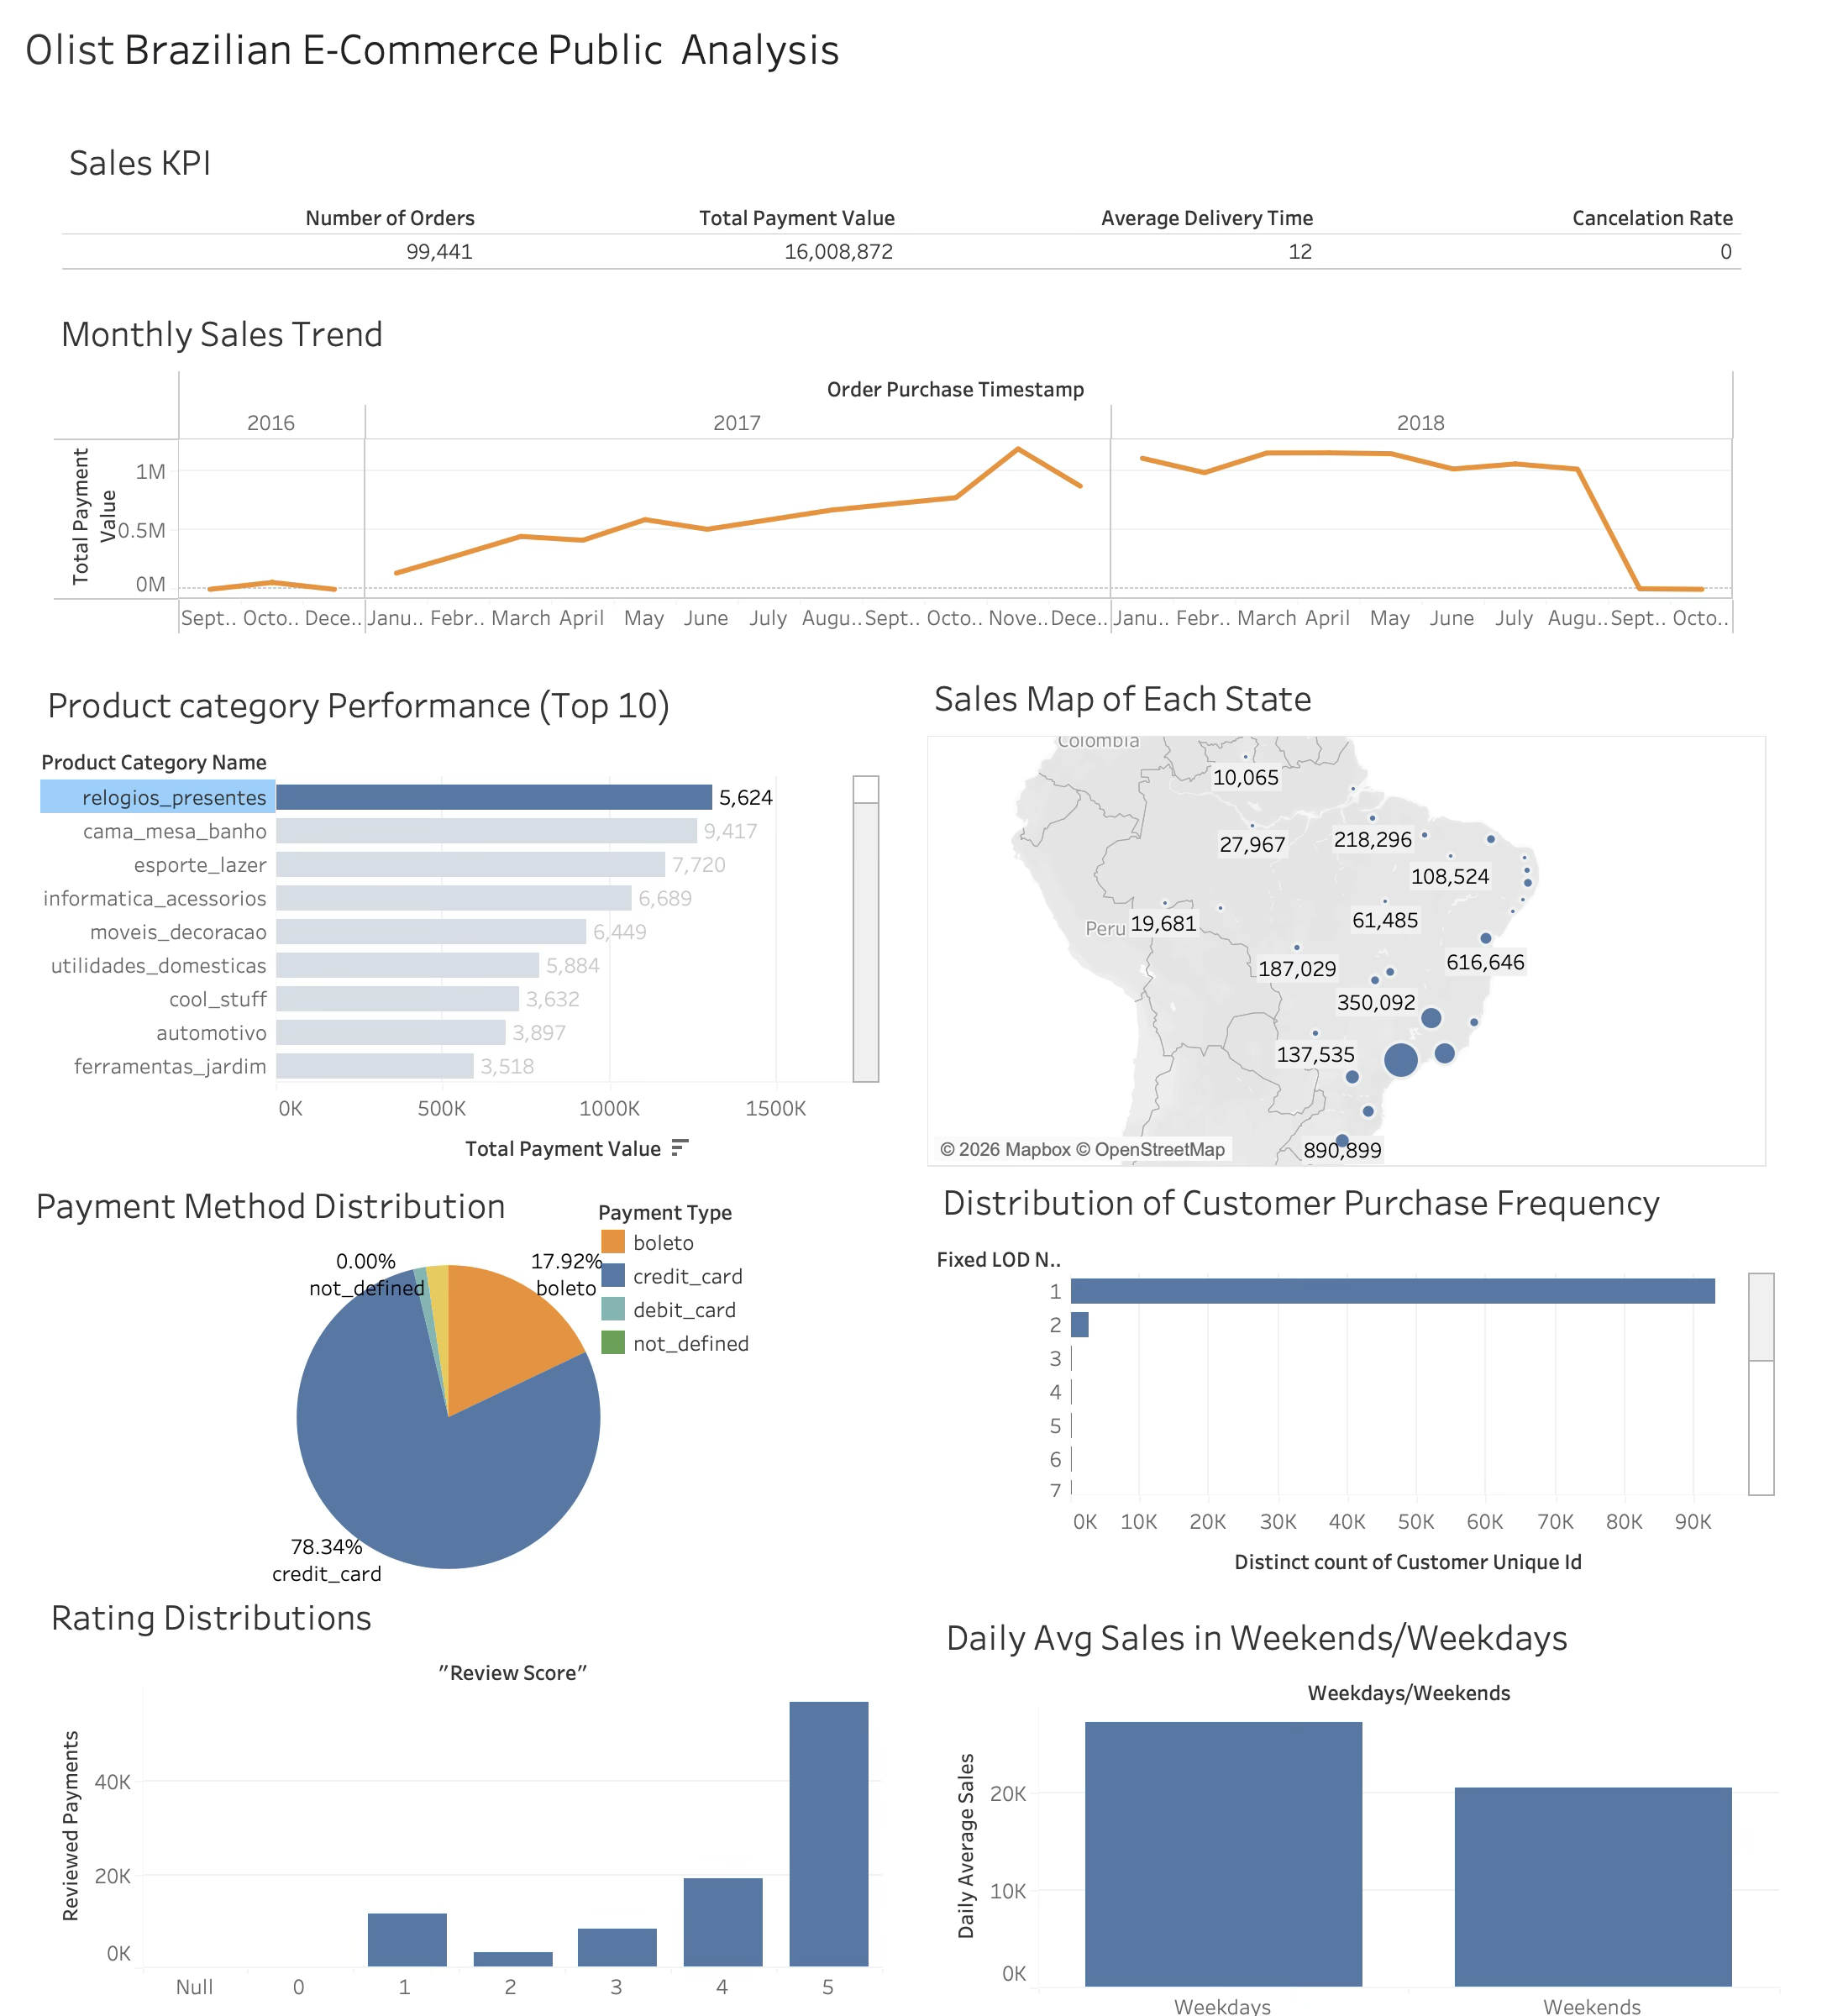

Layout of this report page (visuals, bound fields, positions):
{"tool":"tableau","page":{"name":"Dashboard 1","canvas":[1100,1200],"ordinal":0},"visuals":[{"type":"title","box":[8,8,1084,42]},{"type":"worksheet","title":"Sheet 1","mark":"Automatic","box":[37,76,1000,85]},{"type":"worksheet","title":"Sheet 4","mark":"Automatic","rows":["Calculation_1809669033385985"],"cols":["order_purchase_timestamp","order_purchase_timestamp"],"box":[32,178,1000,200]},{"type":"worksheet","title":"Sheet 5","mark":"Automatic","box":[552,395,500,300]},{"type":"worksheet","title":"Sheet 6","mark":"Automatic","rows":["product_category_name"],"cols":["Calculation_1809669033385985"],"box":[24,399,500,300]},{"type":"worksheet","title":"Sheet 7","mark":"Automatic","rows":["Fixed LOD Number of Orders per Customer (bin)"],"cols":["customer_unique_id"],"box":[557,695,500,250]},{"type":"worksheet","title":"Sheet 10","mark":"Pie","box":[17,697,500,250]},{"type":"legend","title":"Sheet 10","param":"[federated.1o3mrtb1ksunfk0zy1uf201hhx0j].[none:payment_type:nk]","box":[355,711,154,101]},{"type":"worksheet","title":"Sheet 9","mark":"Bar","rows":["Calculation_1809669138046993"],"cols":["\"review_score\""],"box":[26,942,500,250]},{"type":"worksheet","title":"Sheet 11","mark":"Automatic","rows":["Calculation_1809669176410135"],"cols":["Calculation_1809669175959574"],"box":[559,954,500,250]}]}

Visuals, with their boxes in screenshot pixels (x1, y1, x2, y2), scaled from the page's 1100x1200 canvas onto the 1848x2016 screenshot:
title: bbox=[13, 13, 1835, 84]
"Sheet 1" worksheet: bbox=[62, 128, 1742, 270]
"Sheet 4" worksheet: bbox=[54, 299, 1734, 635]
"Sheet 5" worksheet: bbox=[927, 664, 1767, 1168]
"Sheet 6" worksheet: bbox=[40, 670, 880, 1174]
"Sheet 7" worksheet: bbox=[936, 1168, 1776, 1588]
"Sheet 10" worksheet (Pie marks): bbox=[29, 1171, 869, 1591]
"Sheet 10" legend: bbox=[596, 1194, 855, 1364]
"Sheet 9" worksheet (Bar marks): bbox=[44, 1583, 884, 2003]
"Sheet 11" worksheet: bbox=[939, 1603, 1779, 2015]
